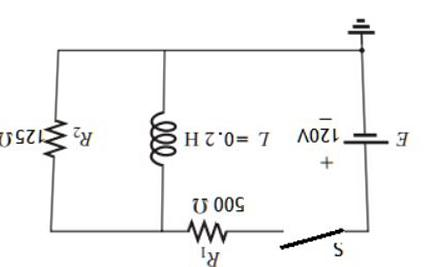resistor: (177, 213, 236, 241), (41, 112, 70, 165)
